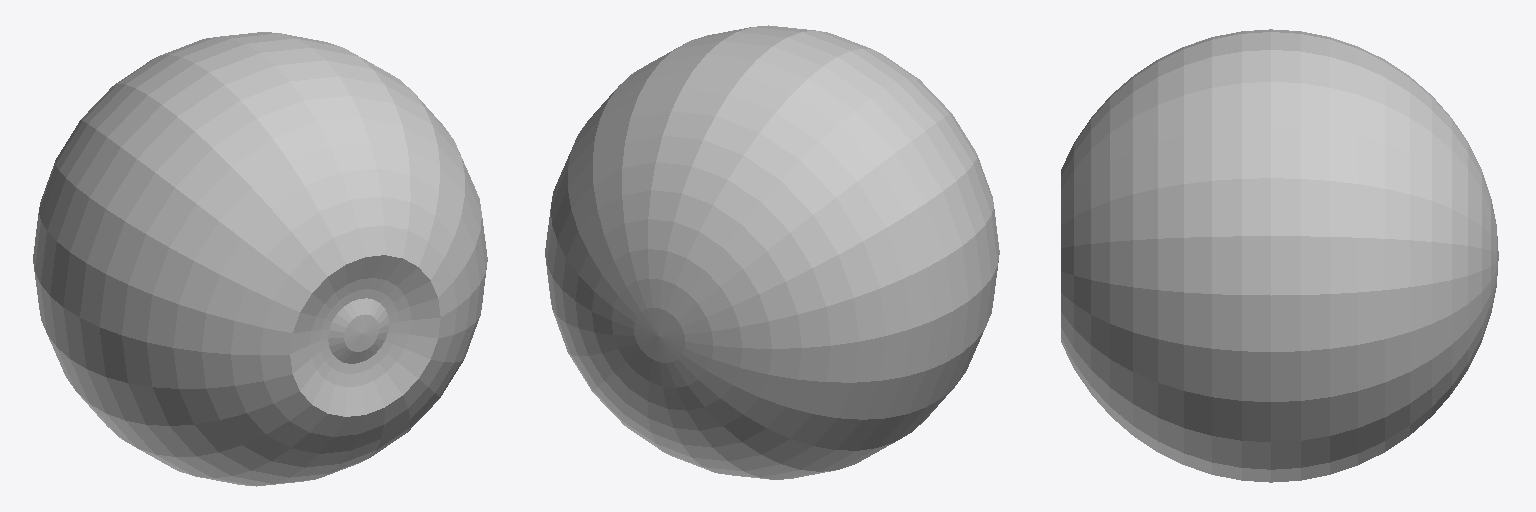
File: eye obj.obj
The picture shows the model from 3 angles: view 1: azimuth 30°, elevation 25°; view 2: azimuth 150°, elevation 25°; view 3: azimuth 270°, elevation 25°; orthographic projection.
Visible parts, largest first — view 1: Eye; view 2: Eye; view 3: Eye.
Boxes of the visible parts, box(x1,y1,x2,y2) form: Eye: box(33, 32, 487, 486); Eye: box(545, 25, 999, 479); Eye: box(1061, 29, 1498, 482).
Size of the model in its own units: 2 by 2 by 1.92.